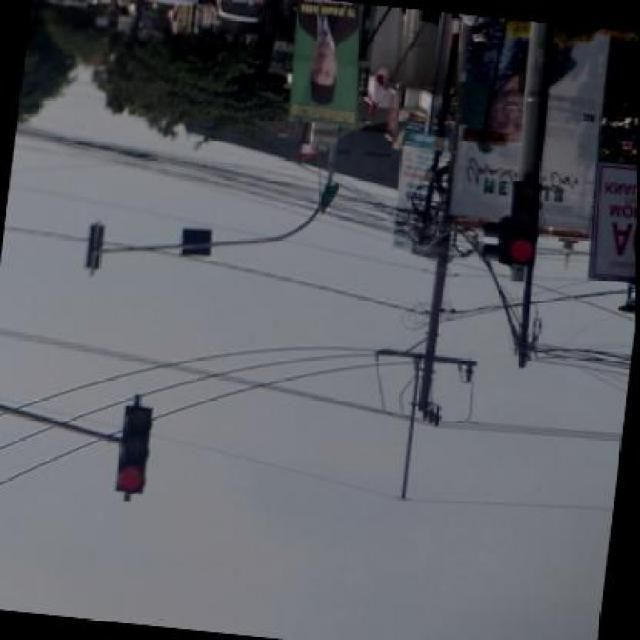red_light: (496, 168, 538, 264), (114, 393, 150, 496)
